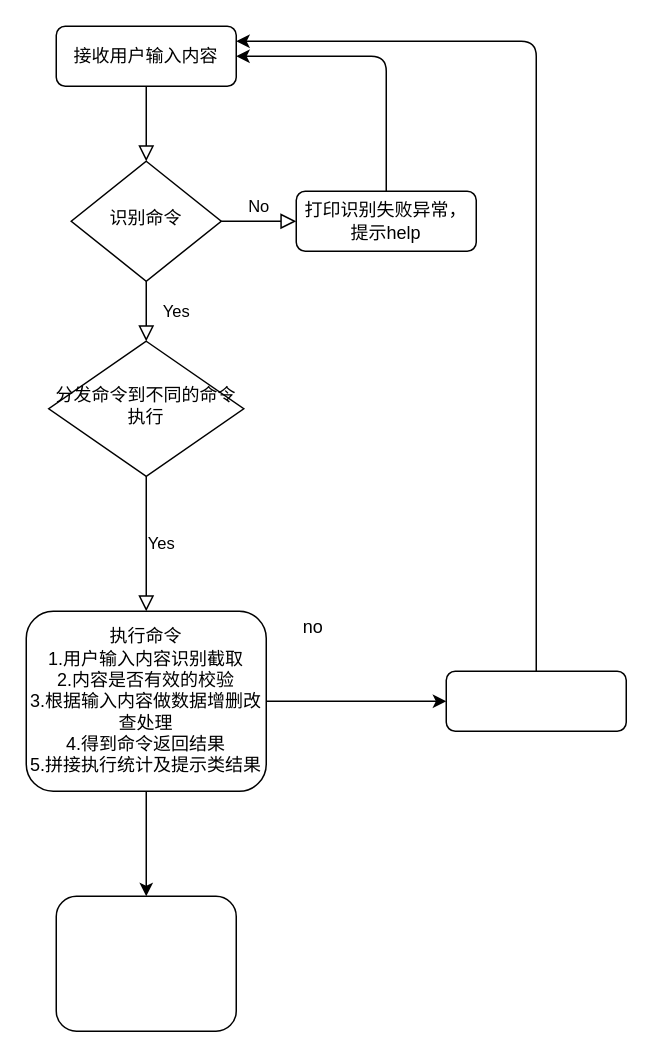
The diagram is 653 pixels wide and 1058 high, and some of its shapes have lost their labels. Here are the shapes that lost their labels. From the top down, the box of each, then its label:
(445, 670, 626, 731): 打印执行失败异常
(55, 895, 236, 1031): 打印命令执行结果 1.命令执行内容结果（可能为空） 2.命令执行统计及提示类结果
